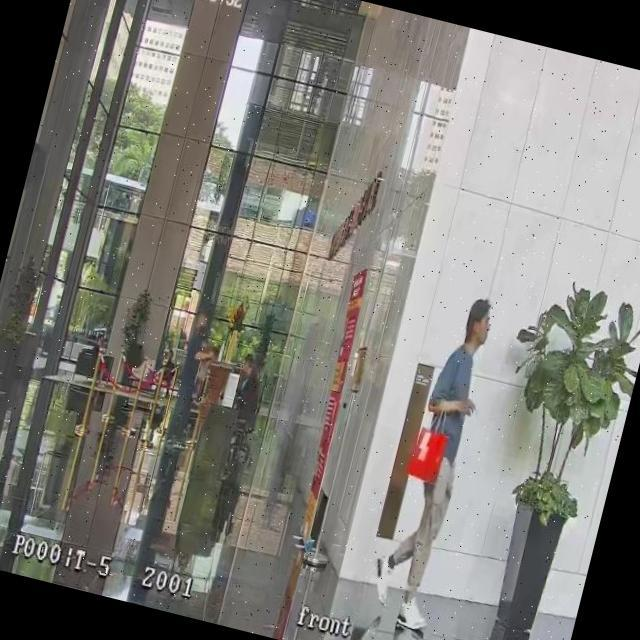person: (362, 289, 504, 631), (162, 311, 220, 454), (226, 350, 273, 434), (84, 332, 116, 390), (153, 348, 180, 400)
